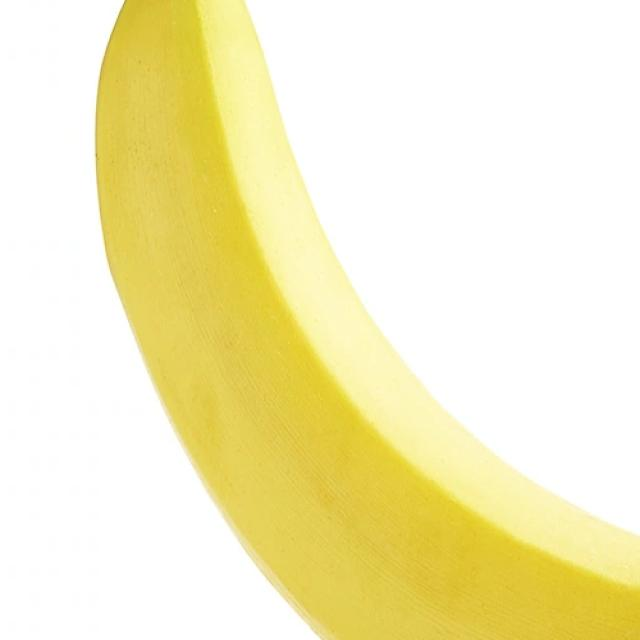banana: (90, 0, 640, 640)
